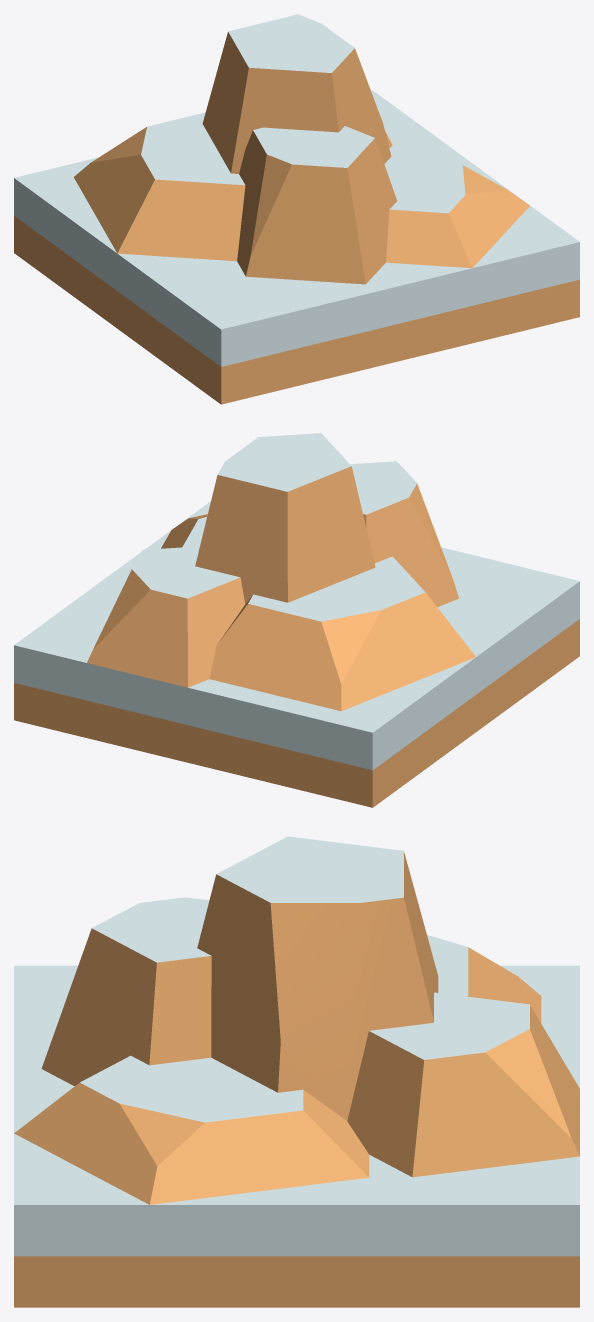
Rendered from snow_tile_rock.dae.
The picture shows the model from 3 angles, top to bottom: view 1: azimuth 30°, elevation 25°; view 2: azimuth 150°, elevation 25°; view 3: azimuth 270°, elevation 25°; orthographic projection. The views are drawn at different scales.
Visible parts, largest first — view 1: rocks, snow_tile_rock; view 2: rocks, snow_tile_rock; view 3: rocks, snow_tile_rock.
Part boxes in pixels (left/top/right/bottom): rocks: left=73, top=14, right=529, bottom=284; snow_tile_rock: left=14, top=90, right=579, bottom=404; rocks: left=87, top=433, right=475, bottom=711; snow_tile_rock: left=14, top=501, right=579, bottom=807; rocks: left=14, top=836, right=579, bottom=1204; snow_tile_rock: left=14, top=965, right=579, bottom=1307.
Size of the model in its own units: 1 by 0.6186 by 1.
